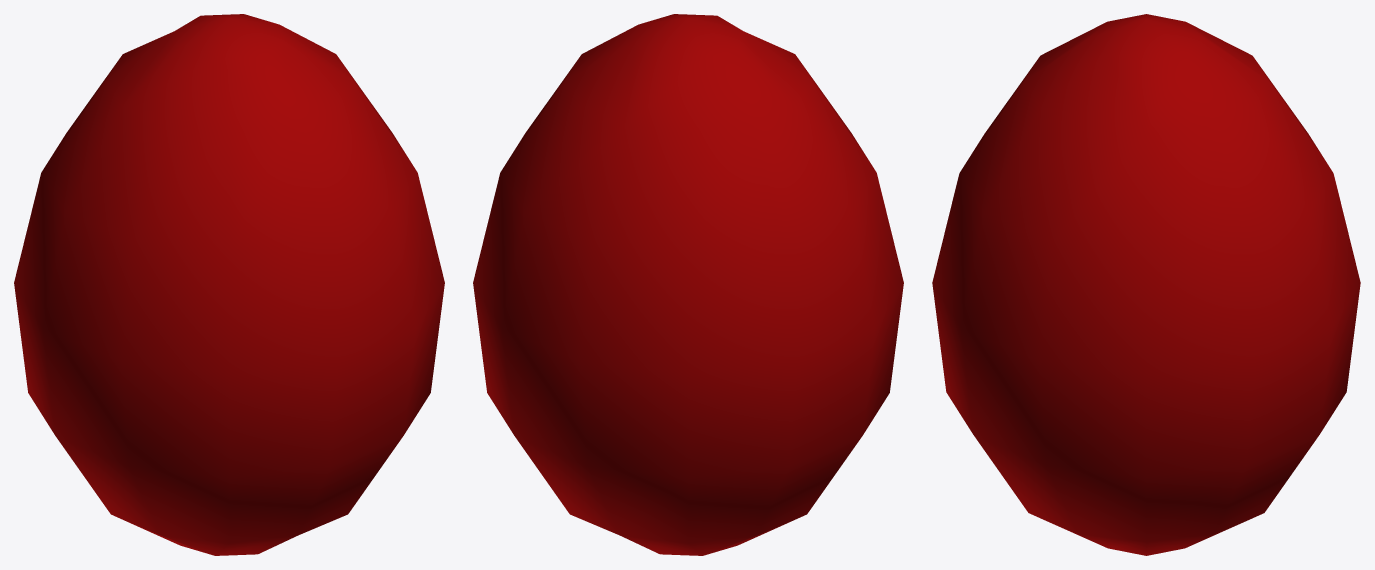
3 views of the same model, side by side, from view 1: azimuth 30°, elevation 25°; view 2: azimuth 150°, elevation 25°; view 3: azimuth 270°, elevation 25° (orthographic).
Visible parts, largest first — view 1: G:\FFXIV-MapTools\exports\f1t2\bgcommon\world\eas\001\bgpart; view 2: G:\FFXIV-MapTools\exports\f1t2\bgcommon\world\eas\001\bgpart; view 3: G:\FFXIV-MapTools\exports\f1t2\bgcommon\world\eas\001\bgpart.
Boxes of the visible parts, left/top/right/bottom form: G:\FFXIV-MapTools\exports\f1t2\bgcommon\world\eas\001\bgpart: left=14, top=14, right=444, bottom=555; G:\FFXIV-MapTools\exports\f1t2\bgcommon\world\eas\001\bgpart: left=473, top=14, right=903, bottom=555; G:\FFXIV-MapTools\exports\f1t2\bgcommon\world\eas\001\bgpart: left=932, top=14, right=1360, bottom=555.
Bounding box in the file's own units: 0.3479 × 0.4668 × 0.3479.
